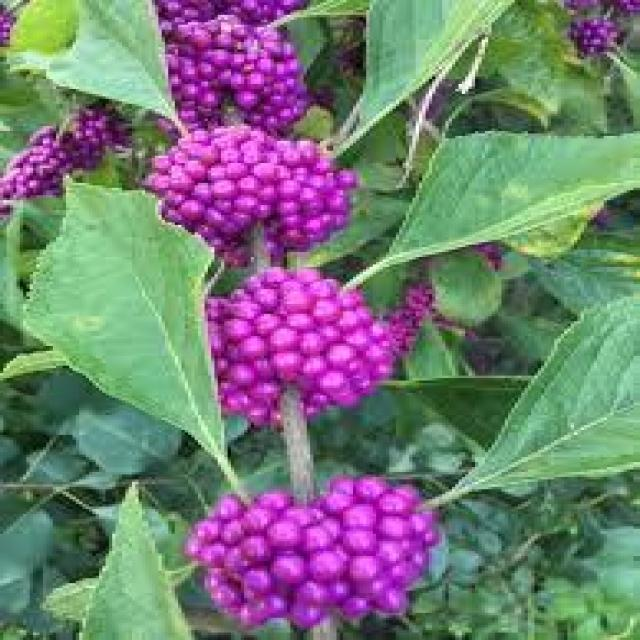organic waste: (194, 472, 448, 618), (180, 263, 404, 399), (99, 130, 386, 233), (153, 17, 325, 126)
